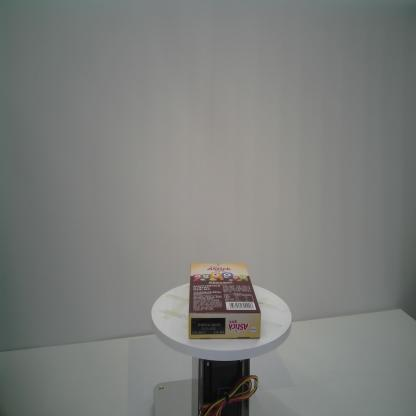Dessert: (186, 258, 263, 342)
